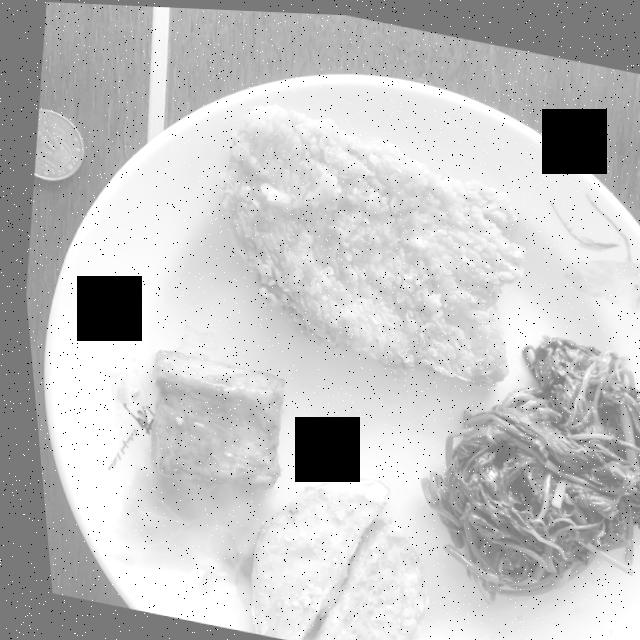coin: (31, 109, 81, 181)
creamy tofu: (143, 349, 278, 488)
fried chicken cutlet: (215, 102, 521, 382)
sweet potato leaves: (413, 332, 640, 598)
